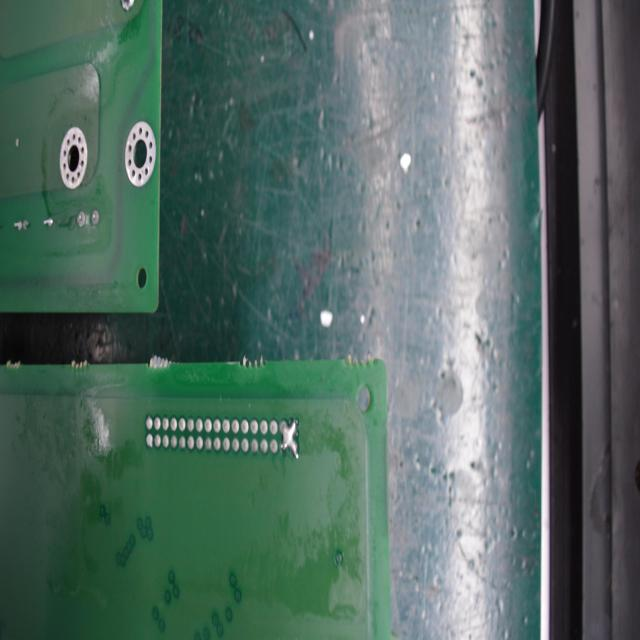Short_circuit: (281, 420, 299, 454)
